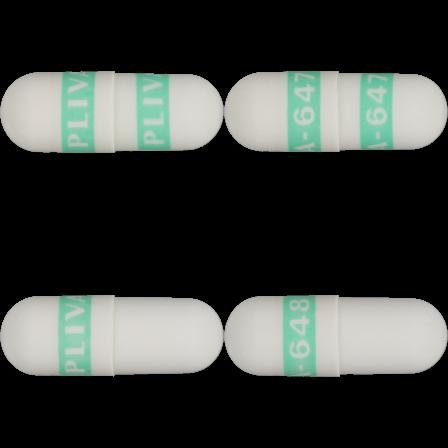50111-647: (0, 0, 224, 224)
